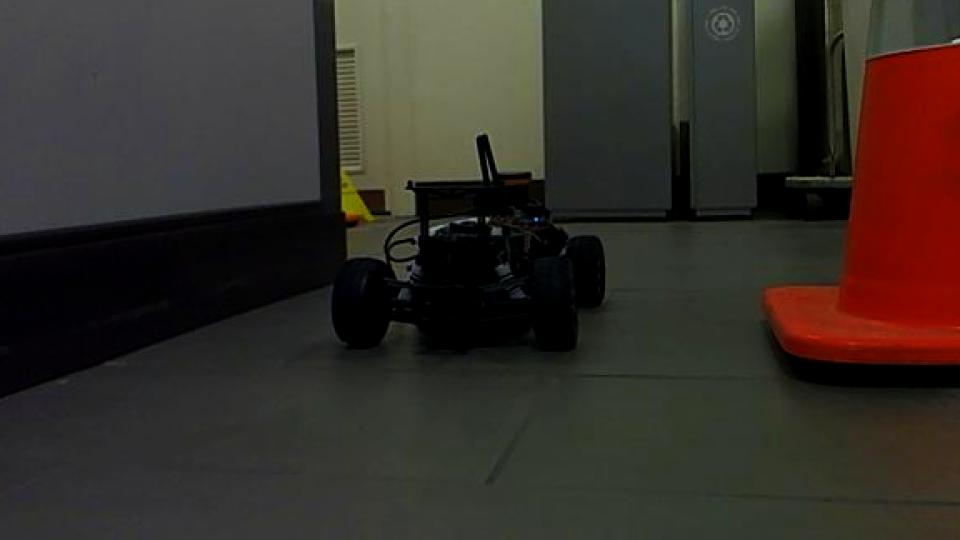car: (328, 132, 610, 355)
